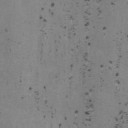oxide scale of temperature system: (85, 22, 89, 26), (85, 112, 90, 114), (51, 3, 54, 6)
